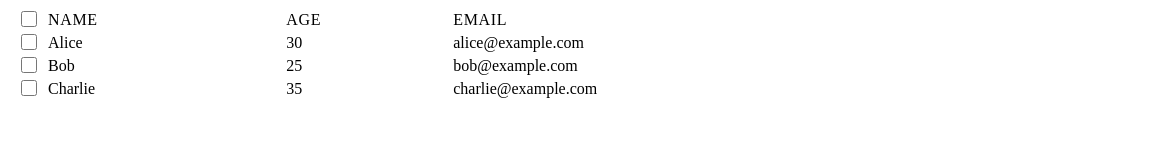
Scenario: TableComponent › Selection › should select a row when checkbox is clicked
The width and height of the screenshot is (1152, 160).
Click the 2nd checkbox with class "lc-table__checkbox".
click(28, 42)  # box [20,34,36,50]
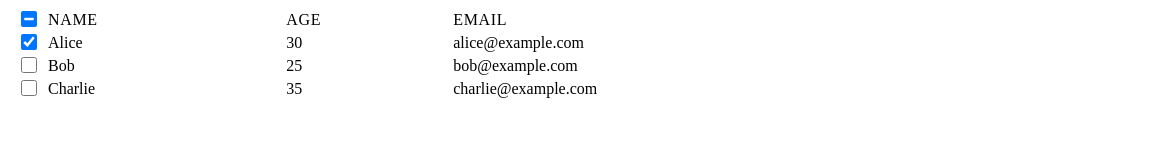
Check: the row with class "lc-table__row--selected" is shown, box [8,31,1144,54]
